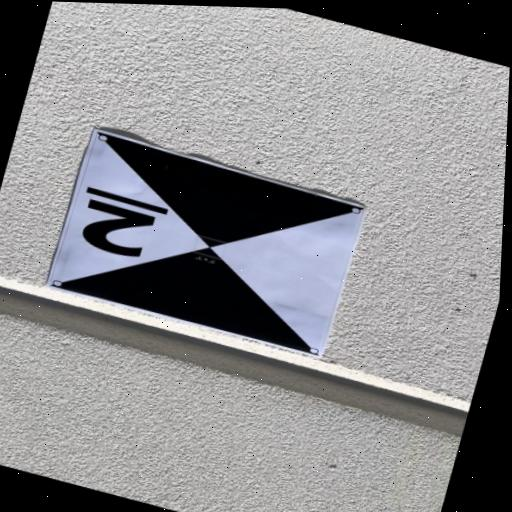target2: (44, 129, 367, 358)
